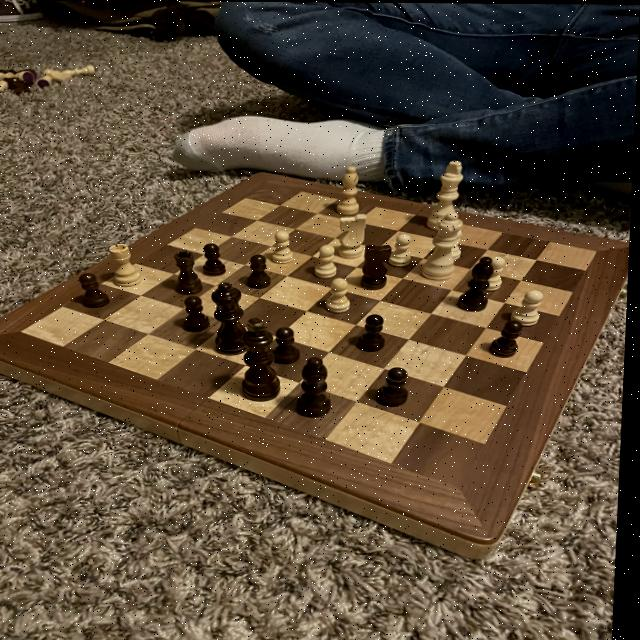bishop: (296, 354, 340, 420), (456, 254, 499, 313)
black-bishop: (239, 315, 290, 404)
black-king: (361, 240, 398, 294)
black-knight: (376, 365, 415, 409), (488, 317, 528, 359), (180, 293, 219, 334), (78, 270, 117, 310), (357, 311, 393, 353), (272, 325, 306, 366), (246, 252, 278, 291), (203, 240, 232, 277)
black-pawn: (210, 280, 255, 356)
black-queen: (172, 247, 209, 297)
black-rook: (334, 161, 364, 217)
white-bishop: (426, 157, 469, 232)
white-king: (335, 211, 377, 262)
white-knight: (510, 286, 551, 328), (326, 275, 357, 314), (481, 253, 510, 292), (314, 243, 343, 279), (389, 232, 417, 269), (271, 229, 299, 265), (446, 227, 467, 263)
white-pawn: (420, 210, 468, 283)
white-queen: (105, 242, 148, 288)
